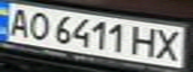1: (106, 20, 130, 54), (87, 19, 109, 51)
4: (69, 17, 93, 48)
6: (51, 14, 75, 45)
A: (3, 6, 33, 38)
H: (130, 24, 163, 58)
O: (24, 10, 54, 40)
X: (151, 27, 187, 62)
